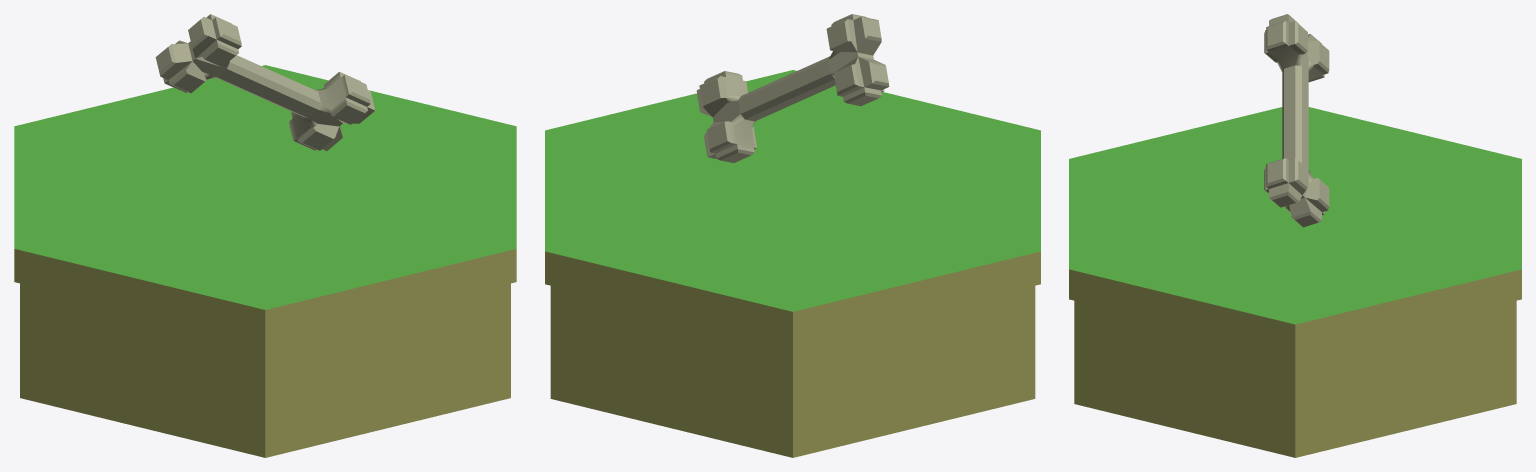
Rendered from Blue_Tile.fbx.
3 views of the same model, side by side, from view 1: azimuth 30°, elevation 25°; view 2: azimuth 150°, elevation 25°; view 3: azimuth 270°, elevation 25° (orthographic). The views are drawn at different scales.
Visible parts, largest first — view 1: pCylinder19; view 2: pCylinder19; view 3: pCylinder19.
Boxes of the visible parts, left/top/right/bottom form: pCylinder19: left=14, top=14, right=516, bottom=457; pCylinder19: left=545, top=14, right=1040, bottom=457; pCylinder19: left=1069, top=14, right=1521, bottom=457.
Size of the model in its own units: 9.25 by 5.99 by 8.01.
